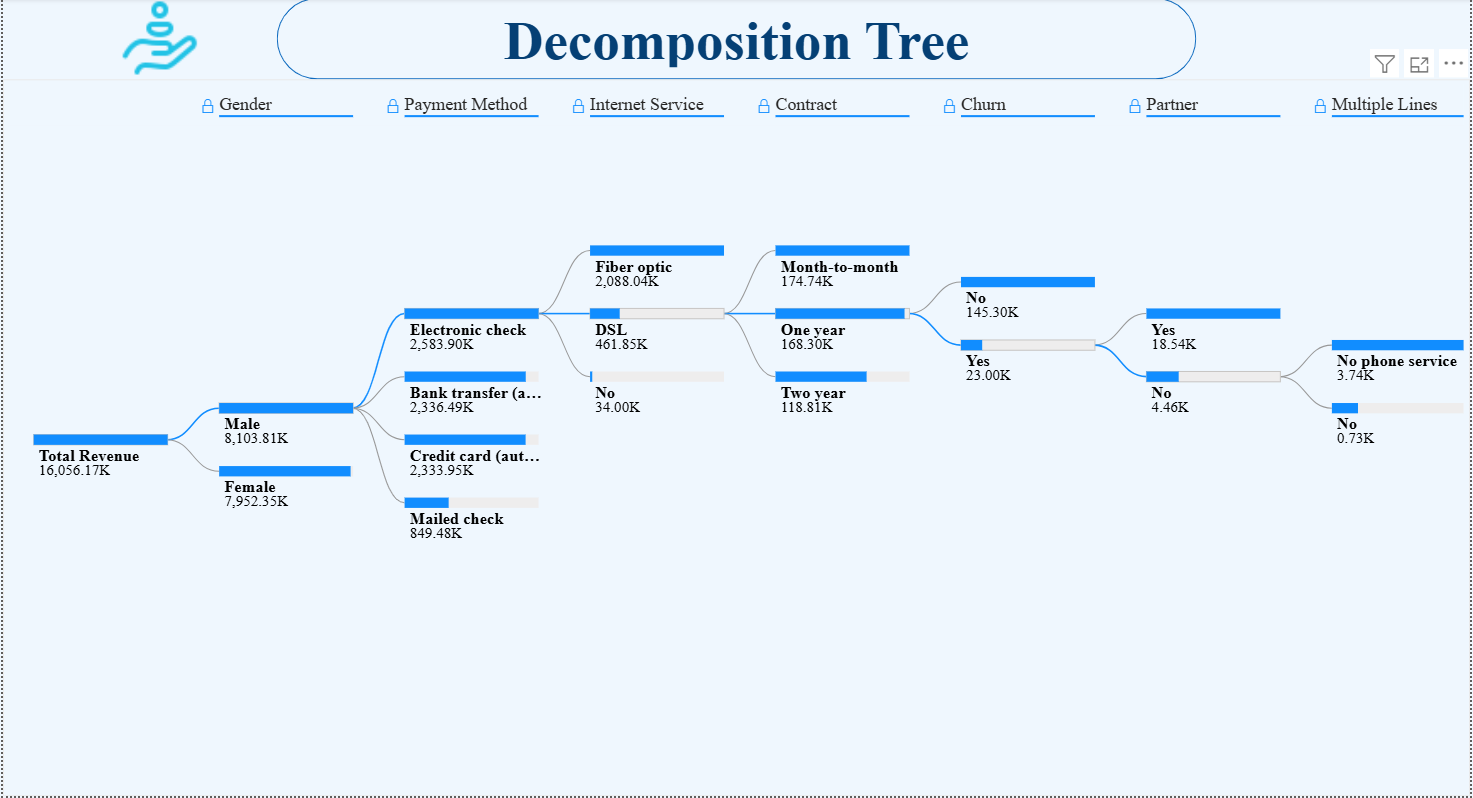

The page's visual inventory and layout, read from the dashboard file:
{"tool":"powerbi","page":{"name":"Decomposition Tree","canvas":[1423,775],"ordinal":3},"visuals":[{"type":"decompositionTreeVisual","fields":{"Analyze":["Measure.Total Revenue"],"ExplainBy":["Retention Risk Analytics.Gender","Retention Risk Analytics.Payment Method","Retention Risk Analytics.Internet Service","Retention Risk Analytics.Contract","Retention Risk Analytics.Churn","Retention Risk Analytics.Partner","Retention Risk Analytics.Multiple Lines"]},"box":[0,79,1422.9,696.3],"z":0},{"type":"shape","box":[265.9,0,892.4,79],"z":1000},{"type":"image","box":[92.1,0,119.8,79],"z":2000}]}

Visuals, with their boxes in screenshot pixels (x1, y1, x2, y2), scaled from the page's 1423x775 canvas onto the 1473x798 screenshot:
decompositionTreeVisual - Measure.Total Revenue x Retention Risk Analytics.Gender: <bbox>0, 81, 1472, 797</bbox>
shape: <bbox>275, 0, 1199, 81</bbox>
image: <bbox>95, 0, 219, 81</bbox>
